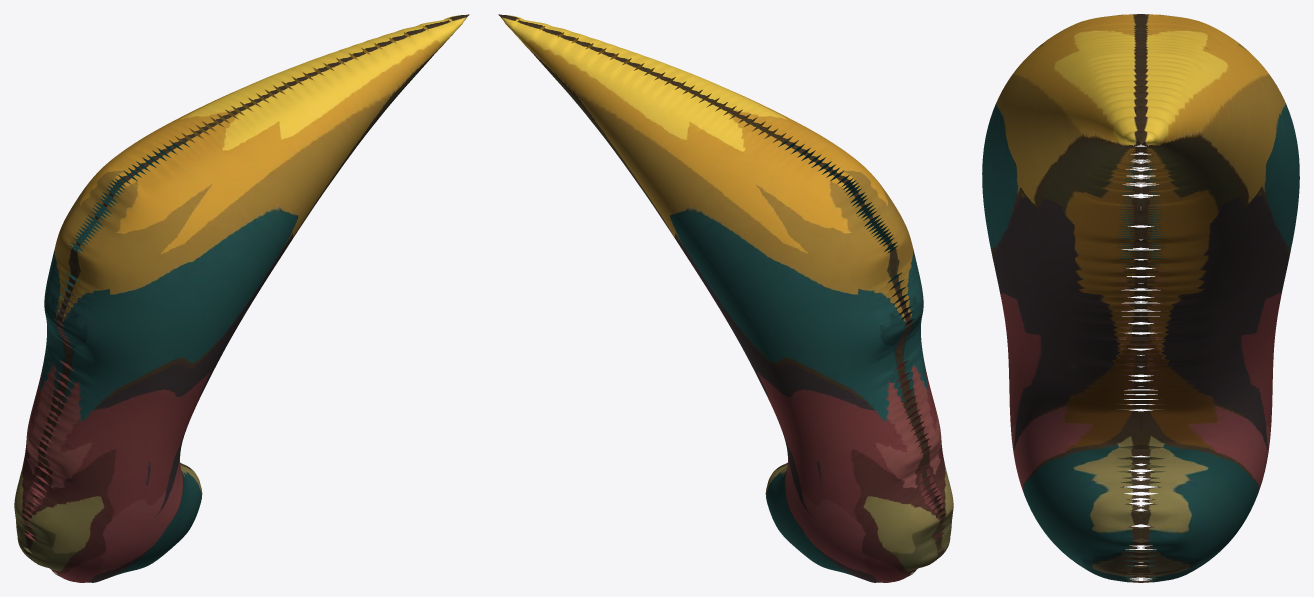
The model's file is rock_blade.glb.
The picture shows the model from 3 angles, left to right: view 1: azimuth 30°, elevation 25°; view 2: azimuth 150°, elevation 25°; view 3: azimuth 270°, elevation 25°; orthographic projection. The views are drawn at different scales.
Parts seen in each view (by area): view 1: rock_blade; view 2: rock_blade; view 3: rock_blade.
Boxes of the visible parts, x1,y1,x2,y2 form: rock_blade: (14, 14, 469, 582); rock_blade: (498, 14, 953, 582); rock_blade: (982, 14, 1299, 582).
Size of the model in its own units: 0.9795 by 0.9811 by 0.4114.
Materials: 1 (1 with a texture image).
